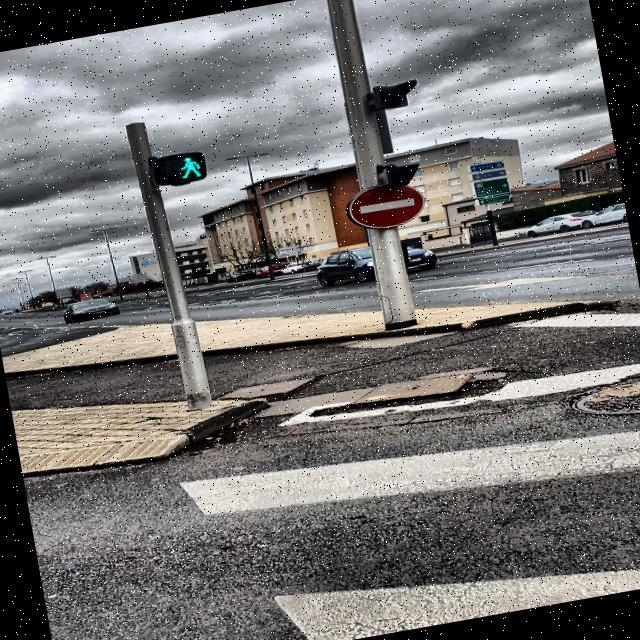green_light: (175, 154, 202, 180)
